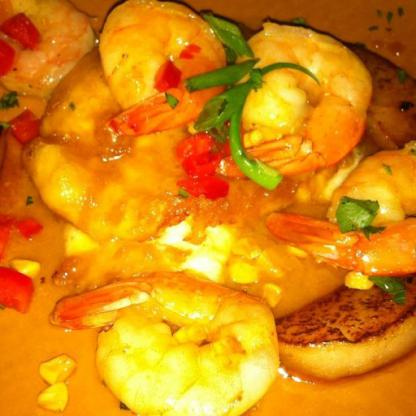shrimp: (56, 273, 278, 415), (238, 23, 381, 171), (265, 152, 415, 271), (105, 3, 229, 129)
